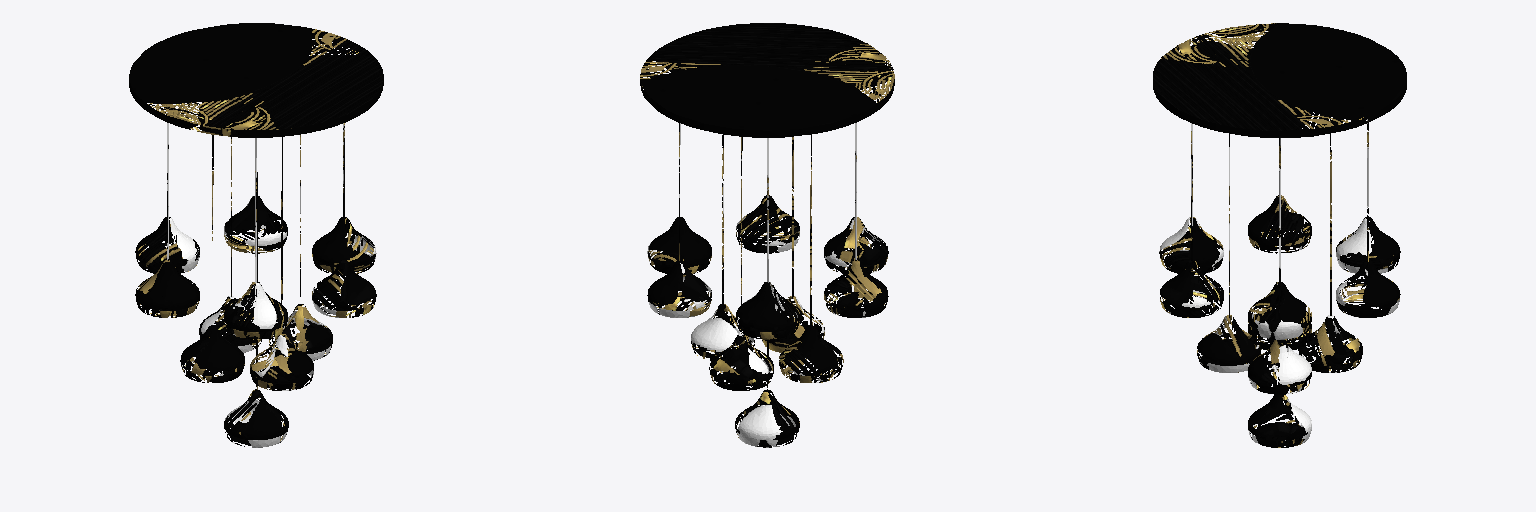
The picture shows the model from 3 angles: view 1: azimuth 30°, elevation 25°; view 2: azimuth 150°, elevation 25°; view 3: azimuth 270°, elevation 25°; orthographic projection.
Parts seen in each view (by area): view 1: solid_001, solid_004, solid_003, solid_002; view 2: solid_001, solid_004, solid_003, solid_002; view 3: solid_001, solid_004, solid_003, solid_002.
Boxes of the visible parts, box(x1,y1,x2,y2) form: solid_001: box(129, 23, 383, 389); solid_004: box(135, 196, 376, 439); solid_003: box(136, 220, 375, 447); solid_002: box(140, 229, 371, 445); solid_001: box(640, 23, 894, 387); solid_004: box(647, 195, 888, 439); solid_003: box(648, 219, 887, 447); solid_002: box(652, 228, 884, 445); solid_001: box(1153, 23, 1406, 380); solid_004: box(1159, 195, 1400, 440); solid_003: box(1160, 219, 1399, 447); solid_002: box(1163, 229, 1394, 446).
Size of the model in its own units: 0.5947 by 0.8781 by 0.5652.
Materials: 1 (1 with a texture image).